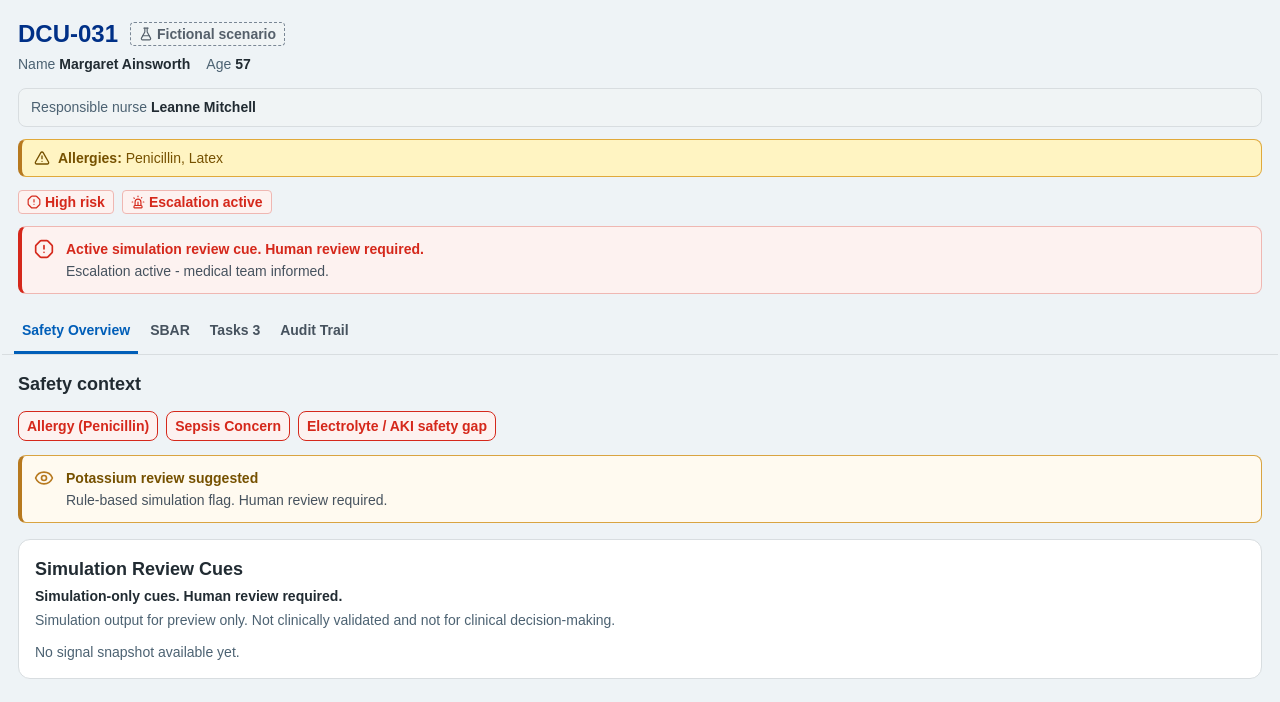
it: PatientSafetyPanel › keeps the existing tasks and audit tabs working
What coordinates should you click on to do the following:
click the tab "Tasks 3"
I would click on:
 (235, 332)
Its box is [202, 310, 268, 354].
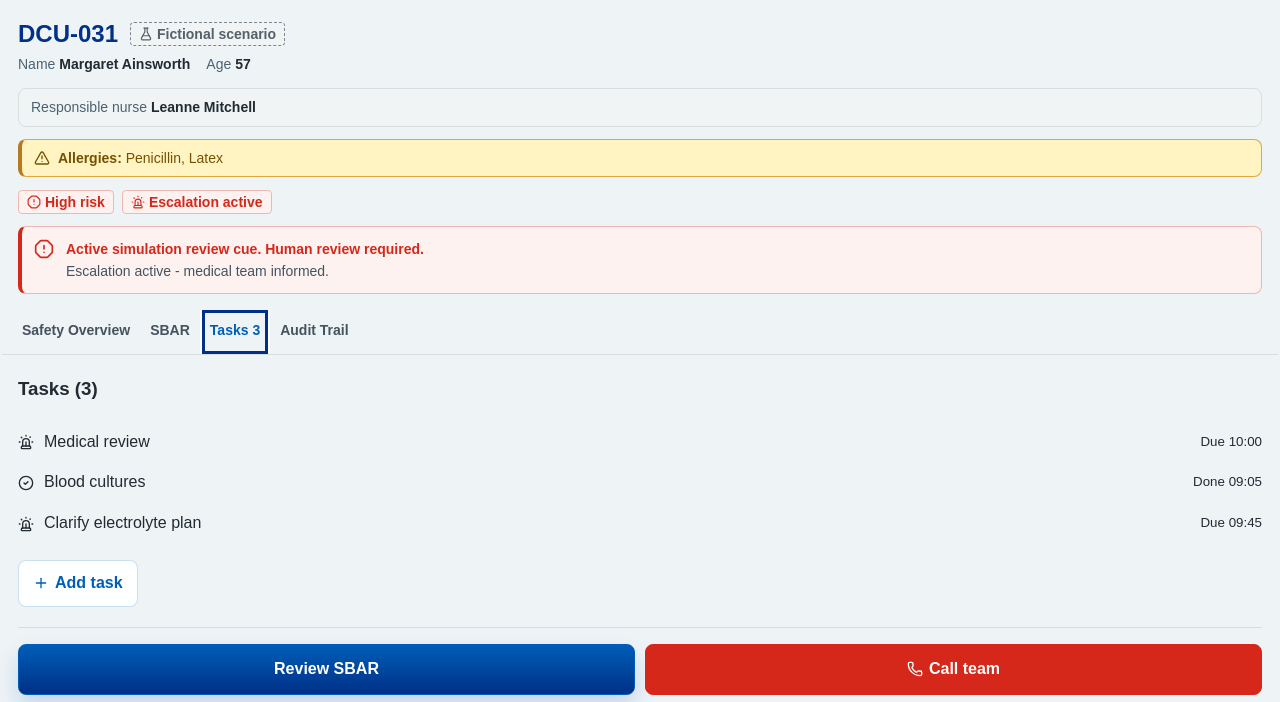
Expected: the text "Medical review" is shown, [44, 433, 150, 450]
Now the heading "Tasks (3)" is shown, box [18, 378, 98, 399]
What coordinates should you click on to do the following:
click the tab "Audit Trail"
I would click on:
 (314, 332)
Its box is [272, 310, 357, 354].
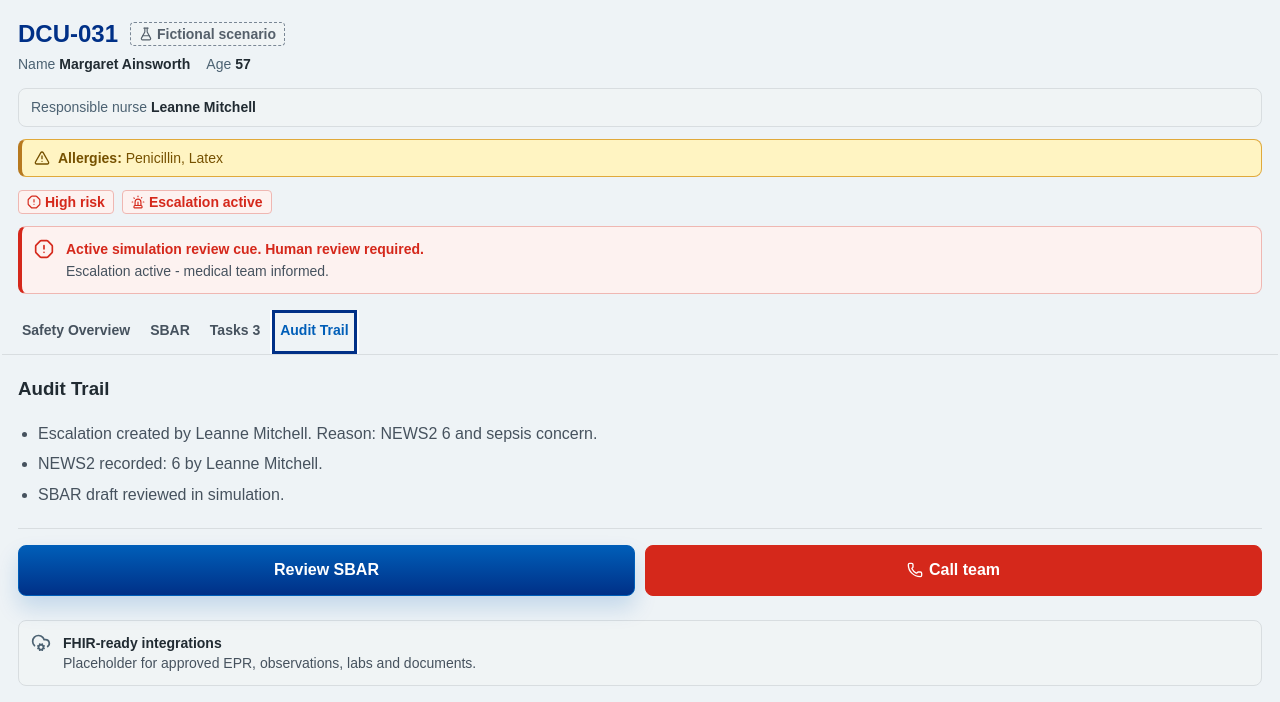
Now the list item "Escalation created" is shown, box [38, 425, 597, 442]
